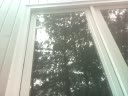window: (36, 14, 98, 96), (108, 8, 128, 33)
